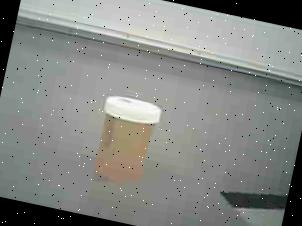Bottle B: (74, 82, 179, 197)
